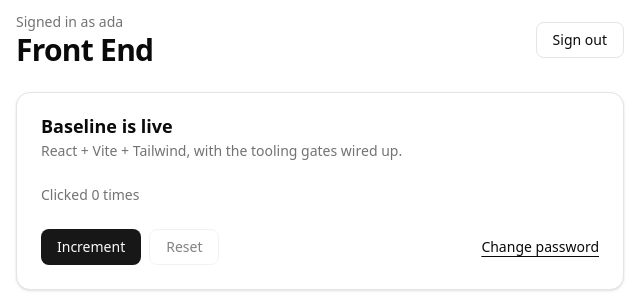
Test: Showcase › returns the count to zero on reset
Click the button "Increment" at [91, 247], box x1=41 y1=229 x2=141 y2=265
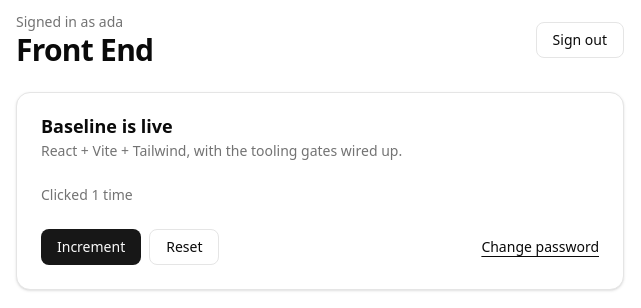
Click the button "Reset" at [184, 247], box x1=149 y1=229 x2=220 y2=265
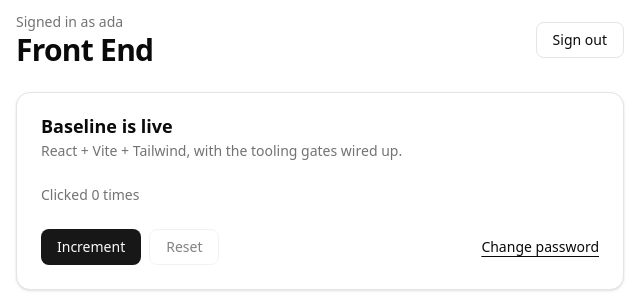
Expected: the text with test id "count" reads "Clicked 0 times", x1=41 y1=185 x2=139 y2=204
Expected: the button "Reset" is disabled, x1=149 y1=229 x2=220 y2=265
